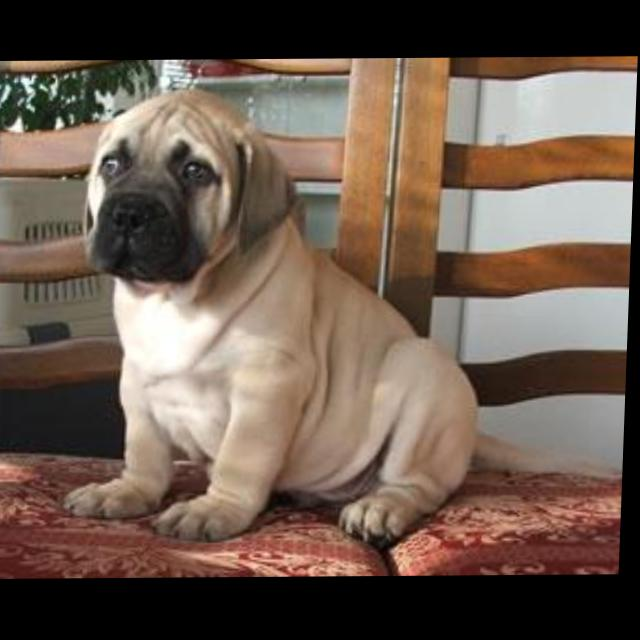bullmastiff: (65, 84, 636, 552)
